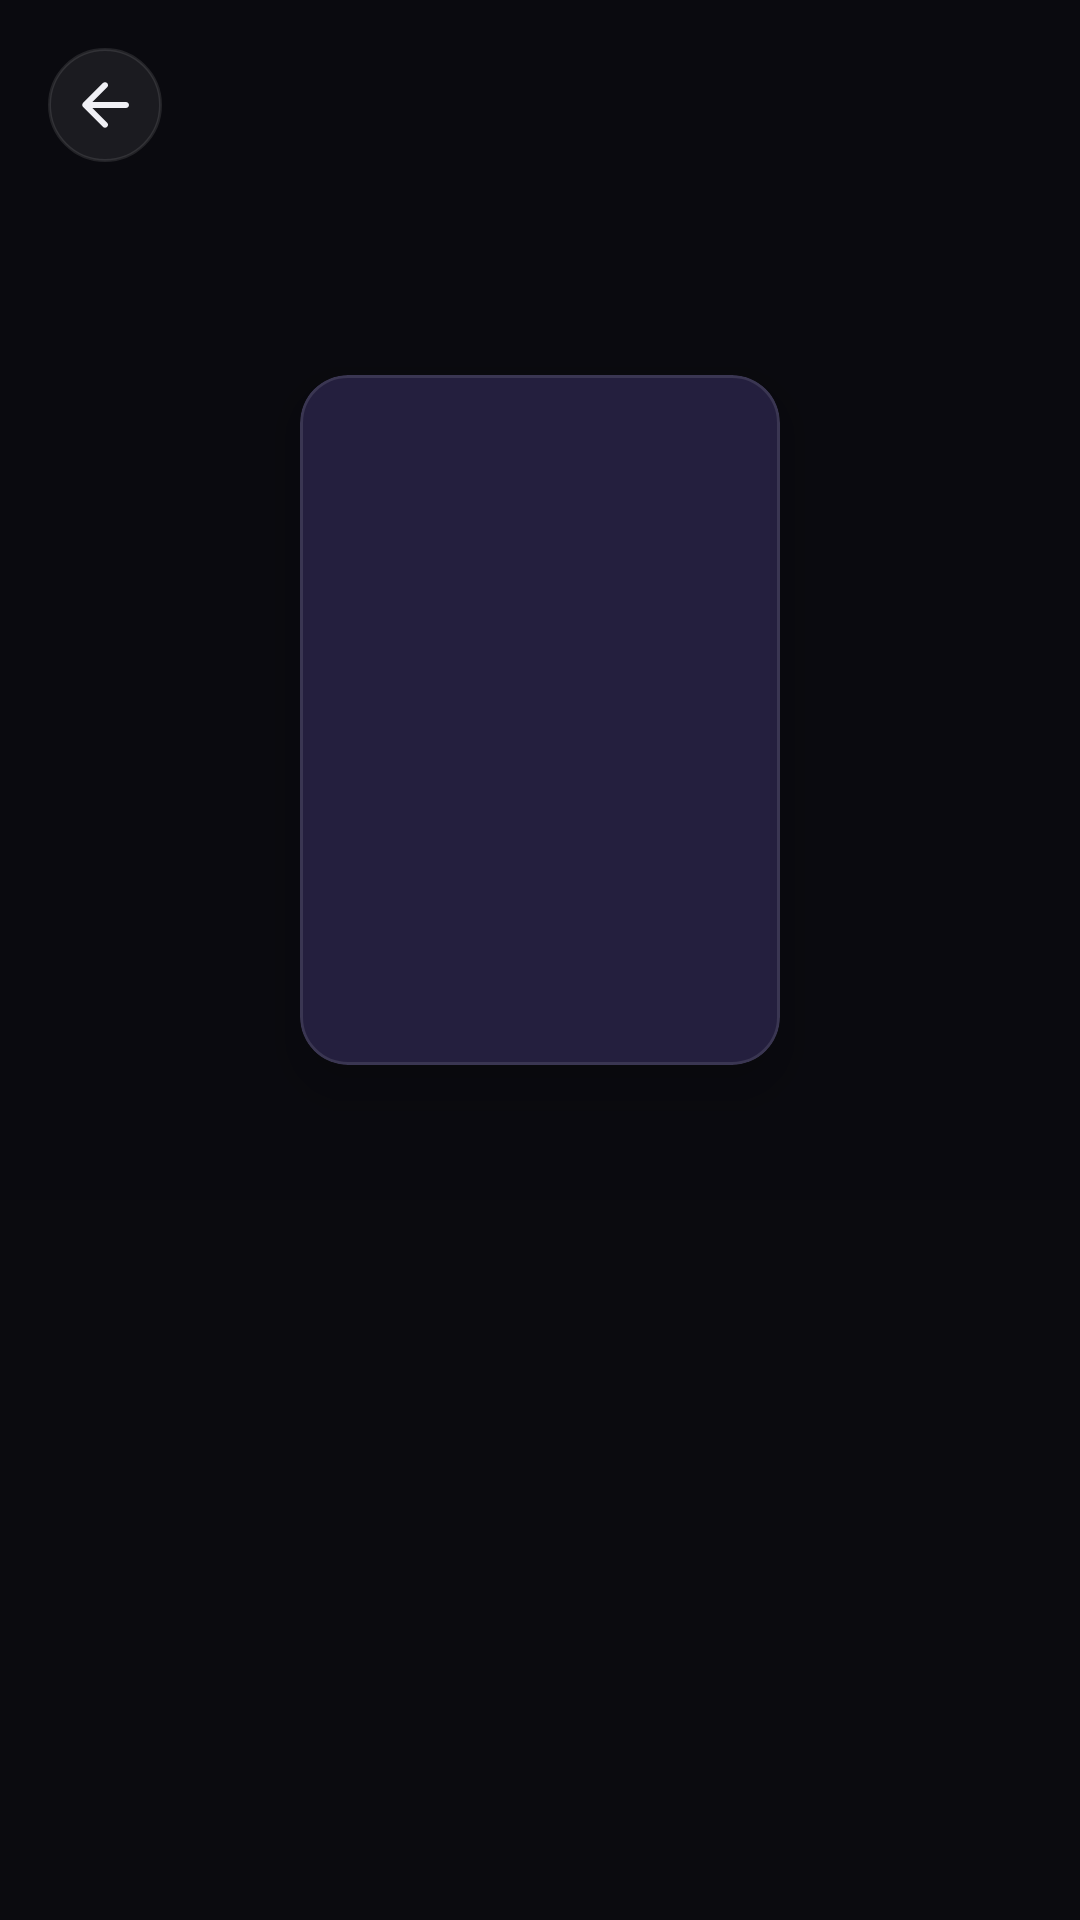

Icons on this 1080 × 1920 Android screen, each with its box as region(x1, y1, x2, y2):
Back: region(48, 48, 162, 162)
